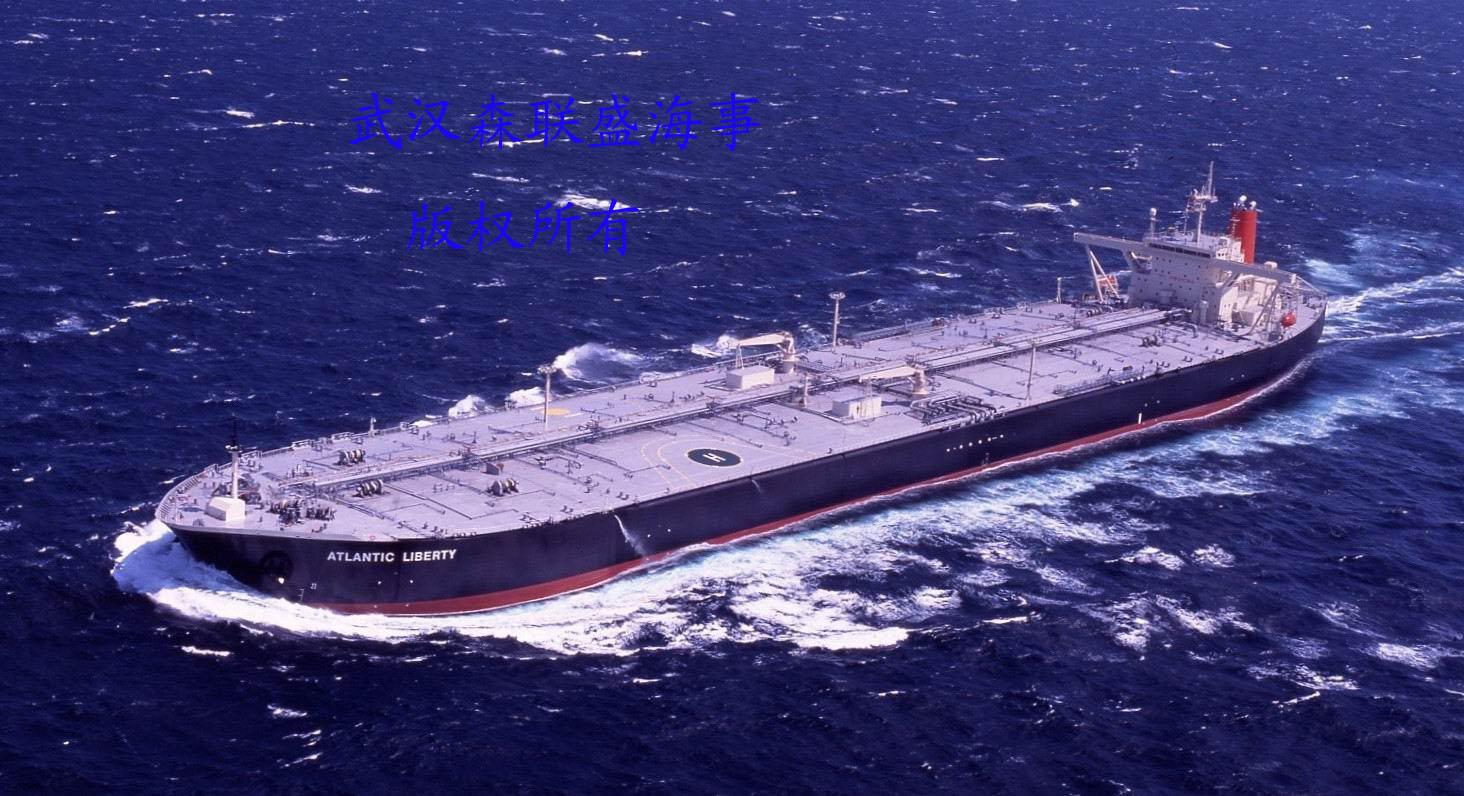Cargoship: (150, 150, 1345, 625)
